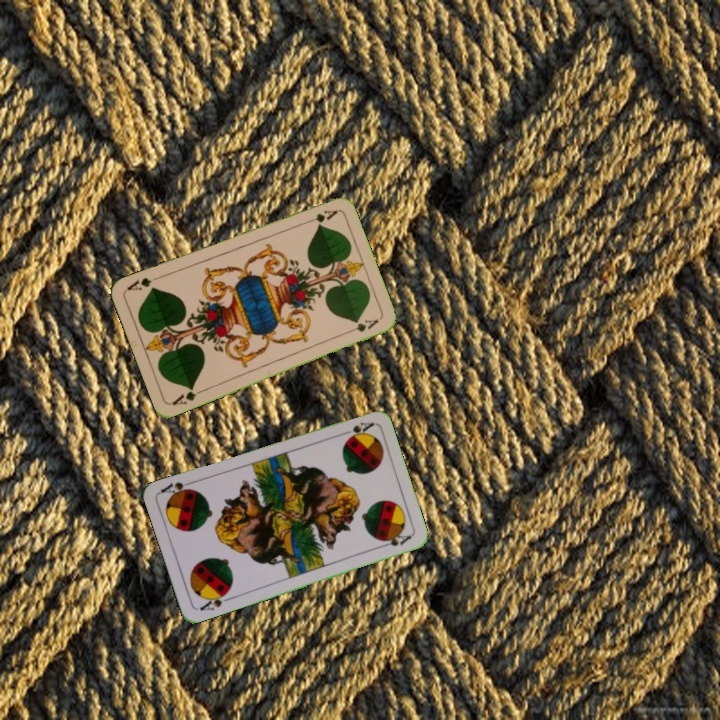GA: (168, 383, 207, 408), (300, 206, 340, 226)
SA: (196, 587, 234, 613), (336, 418, 376, 441)
